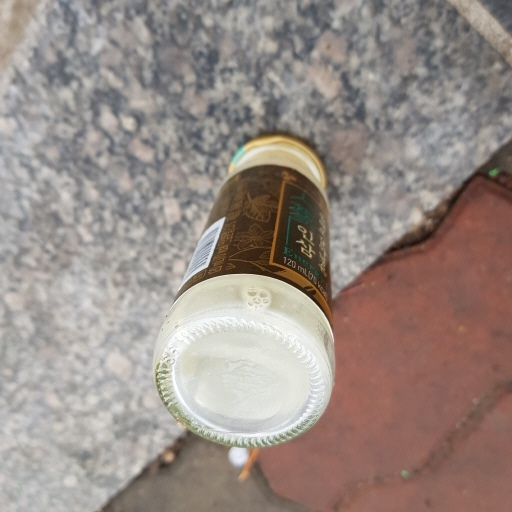Glass_4: (141, 135, 339, 450)
